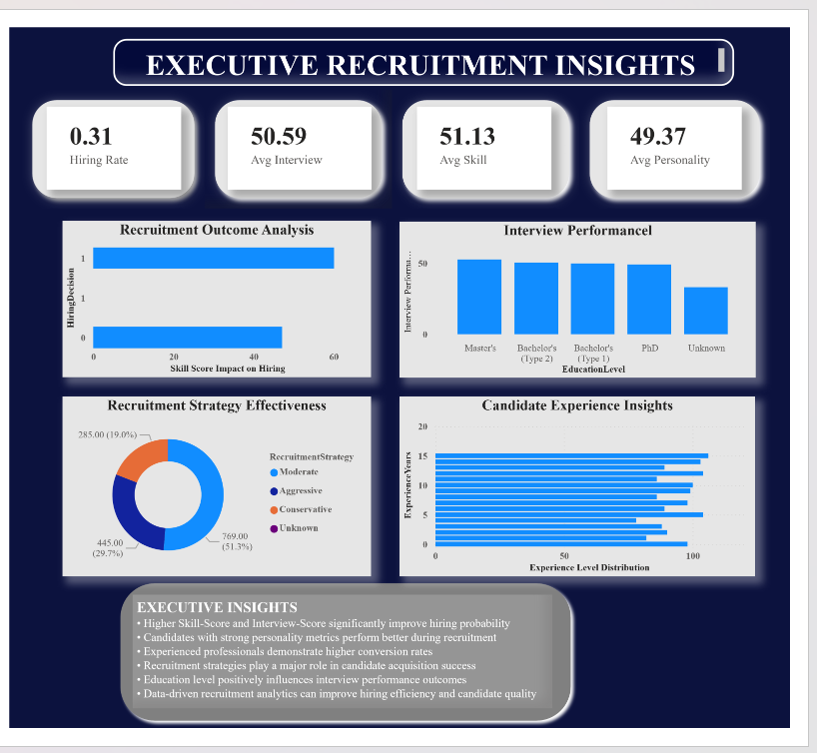

Layout of this report page (visuals, bound fields, positions):
{"tool":"powerbi","page":{"name":"Executive Insights","canvas":[1000,897],"ordinal":2},"visuals":[{"type":"shape","box":[133.3,703.3,595,193.3],"z":0},{"type":"shape","box":[250,80,240,152],"z":1000},{"type":"shape","box":[16,80,234,152],"z":2000},{"type":"shape","box":[490,80,240,152],"z":3000},{"type":"shape","box":[730,80,244,152],"z":4000},{"type":"textbox","box":[133.3,15,795,60],"z":5000},{"type":"cardVisual","fields":{"Data":["Avg(cleaned_recruitment_data.HiringDecision)"]},"box":[48,102,172,106],"z":6000},{"type":"cardVisual","fields":{"Data":["Avg(cleaned_recruitment_data.InterviewScore)"]},"box":[280,102,184,106],"z":7000},{"type":"cardVisual","fields":{"Data":["Avg(cleaned_recruitment_data.PersonalityScore)"]},"box":[766,102,172,106],"z":8000},{"type":"cardVisual","fields":{"Data":["Avg(cleaned_recruitment_data.SkillScore)"]},"box":[522,102,172,106],"z":9000},{"type":"clusteredBarChart","title":"Recruitment Outcome Analysis","fields":{"Category":["cleaned_recruitment_data.HiringDecision"],"Y":["Avg(cleaned_recruitment_data.SkillScore)"]},"box":[67.5,247.5,395,200],"z":10000},{"type":"clusteredColumnChart","title":"Interview Performancel","fields":{"Category":["cleaned_recruitment_data.EducationLevel"],"Y":["Avg(cleaned_recruitment_data.InterviewScore)"]},"box":[500,248.6,455.7,200],"z":11000},{"type":"donutChart","title":"Recruitment Strategy Effectiveness","fields":{"Category":["cleaned_recruitment_data.RecruitmentStrategy"],"Y":["CountNonNull(cleaned_recruitment_data.HiringDecision)"]},"box":[67.5,472.5,395,230],"z":12000},{"type":"clusteredBarChart","title":"Candidate Experience Insights","fields":{"Category":["cleaned_recruitment_data.ExperienceYears"],"Y":["CountNonNull(cleaned_recruitment_data.DistanceFromCompany)"]},"box":[500,472.5,455,230],"z":13000},{"type":"textbox","box":[158.3,726.7,536.7,145],"z":14000}]}

Visuals, with their boxes in screenshot pixels (x1, y1, x2, y2), scaled from the page's 1000x897 canvas onto the 817x753 screenshot:
shape: bbox(109, 590, 595, 752)
shape: bbox(204, 67, 400, 195)
shape: bbox(13, 67, 204, 195)
shape: bbox(400, 67, 596, 195)
shape: bbox(596, 67, 796, 195)
textbox: bbox(109, 13, 758, 63)
cardVisual - Avg(cleaned_recruitment_data.HiringDecision): bbox(39, 86, 180, 175)
cardVisual - Avg(cleaned_recruitment_data.InterviewScore): bbox(229, 86, 379, 175)
cardVisual - Avg(cleaned_recruitment_data.PersonalityScore): bbox(626, 86, 766, 175)
cardVisual - Avg(cleaned_recruitment_data.SkillScore): bbox(426, 86, 567, 175)
"Recruitment Outcome Analysis" clusteredBarChart: bbox(55, 208, 378, 376)
"Interview Performancel" clusteredColumnChart: bbox(408, 209, 781, 377)
"Recruitment Strategy Effectiveness" donutChart: bbox(55, 397, 378, 590)
"Candidate Experience Insights" clusteredBarChart: bbox(408, 397, 780, 590)
textbox: bbox(129, 610, 568, 732)
